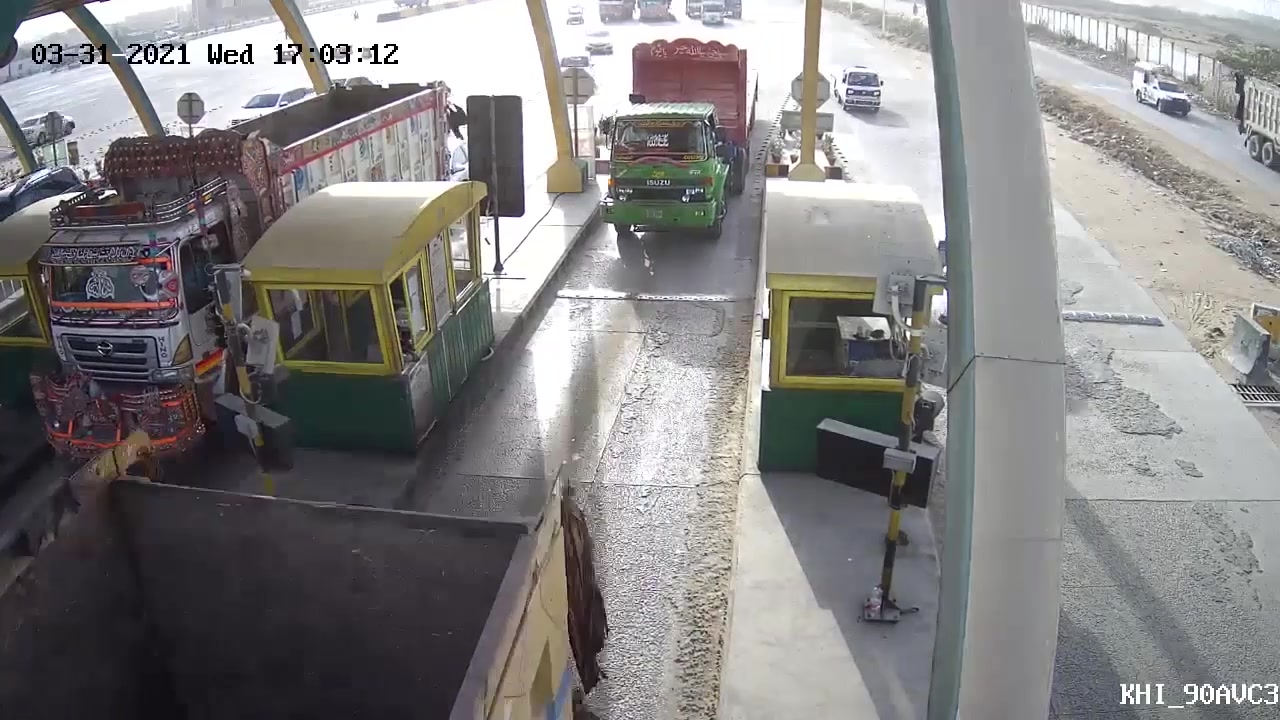F6: (582, 21, 763, 255)
